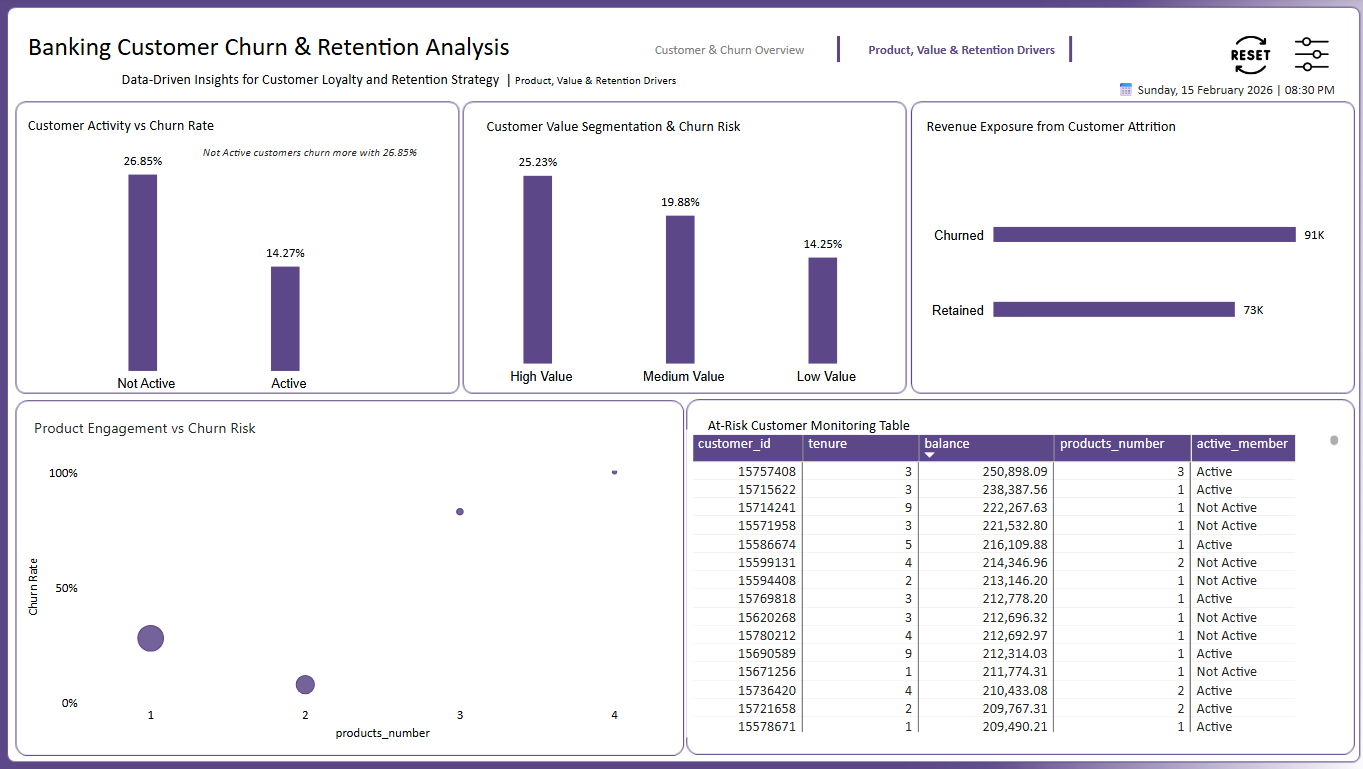

The dashboard page shown, as its layout file describes it:
{"tool":"powerbi","page":{"name":"Product, Value & Retention Drivers","canvas":[1280,720],"ordinal":1},"visuals":[{"type":"image","box":[0,0,1280.3,720.4],"z":0},{"type":"textbox","box":[26.1,26.1,495.4,45.3],"z":1000},{"type":"textbox","box":[112.5,61.7,570.8,54.9],"z":2000},{"type":"scatterChart","fields":{"X":["Bank Customer Churn Prediction.products_number"],"Y":["KPIs.Churn Rate"],"Size":["Sum(Bank Customer Churn Prediction.balance)"]},"box":[25.6,427.9,614,268.6],"z":3000},{"type":"barChart","fields":{"Category":["Bank Customer Churn Prediction.Churn"],"Y":["KPIs.Avg Balance"]},"box":[863.1,138.6,392.5,230.5],"z":4000},{"type":"columnChart","fields":{"Category":["Bank Customer Churn Prediction.Customer Values"],"Y":["KPIs.Churn Rate"]},"box":[433.6,129,414.4,240.1],"z":5000},{"type":"columnChart","fields":{"Category":["Bank Customer Churn Prediction.active_member"],"Y":["KPIs.Churn Rate"]},"box":[0,129,414.4,247],"z":6000},{"type":"tableEx","fields":{"Values":["Bank Customer Churn Prediction.customer_id","Bank Customer Churn Prediction.tenure","Bank Customer Churn Prediction.balance","Bank Customer Churn Prediction.products_number","Bank Customer Churn Prediction.active_member"]},"box":[643.6,402.1,612,286.8],"z":7000},{"type":"textbox","box":[26.1,104.3,188,34.3],"z":8000},{"type":"textbox","box":[31.4,386,293,33.7],"z":9000},{"type":"textbox","box":[861.8,105.7,274.4,34.3],"z":10000},{"type":"textbox","box":[452.3,105.8,286,33.7],"z":11000},{"type":"textbox","box":[658.7,384.2,275.8,34.3],"z":12000},{"type":"image","box":[1195.9,36.2,59.3,34.7],"z":14000},{"type":"image","box":[1140.9,36.2,54.9,36.2],"z":15000},{"type":"card","fields":{"Values":["KPIs.Report Last Refreshed"]},"box":[1024.4,72.1,241.9,32.6],"z":16000},{"type":"pageNavigator","box":[580.2,36,422.1,25.6],"z":17000},{"type":"textbox","box":[188.4,129.1,245.3,34.9],"z":17001}]}

Visuals, with their boxes in screenshot pixels (x1, y1, x2, y2), scaled from the page's 1280x720 canvas onto the 1363x769 screenshot:
image: detection(0, 0, 1362, 768)
textbox: detection(28, 28, 555, 76)
textbox: detection(120, 66, 728, 125)
scatterChart - Bank Customer Churn Prediction.products_number x KPIs.Churn Rate: detection(27, 457, 681, 744)
barChart - Bank Customer Churn Prediction.Churn x KPIs.Avg Balance: detection(919, 148, 1337, 394)
columnChart - Bank Customer Churn Prediction.Customer Values x KPIs.Churn Rate: detection(462, 138, 903, 394)
columnChart - Bank Customer Churn Prediction.active_member x KPIs.Churn Rate: detection(0, 138, 441, 402)
tableEx - Bank Customer Churn Prediction.customer_id x Bank Customer Churn Prediction.tenure: detection(685, 429, 1337, 736)
textbox: detection(28, 111, 228, 148)
textbox: detection(33, 412, 345, 448)
textbox: detection(918, 113, 1210, 150)
textbox: detection(482, 113, 786, 149)
textbox: detection(701, 410, 995, 447)
image: detection(1273, 39, 1337, 76)
image: detection(1215, 39, 1273, 77)
card - KPIs.Report Last Refreshed: detection(1091, 77, 1348, 112)
pageNavigator: detection(618, 38, 1067, 66)
textbox: detection(201, 138, 462, 175)
